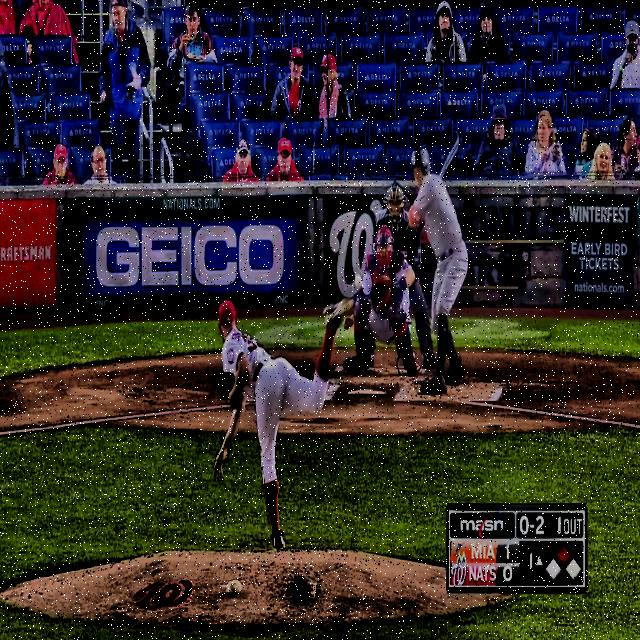baseball: (354, 272, 364, 288)
